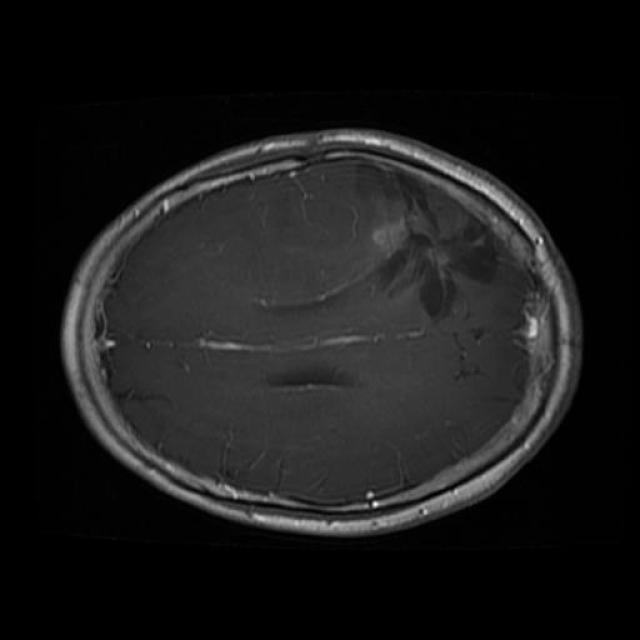Glioma: (363, 171, 494, 321)
